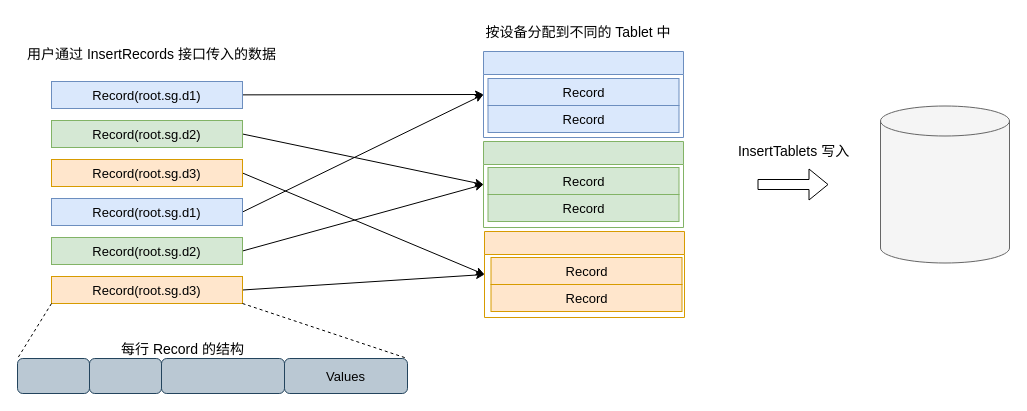
This 1027x411 diagram has some shape labels left out. The box of each missing label's shape, as (x1, y1, x2, y2) in pixels:
DataTypes: (160, 358, 284, 394)
DeviceID: (16, 358, 90, 394)
IoTDB: (880, 105, 1010, 263)
Tablet (root.sg.d1): (482, 50, 684, 138)
Tablet (root.sg.d2): (482, 140, 684, 228)
Tablet (root.sg.d3): (484, 230, 684, 318)
Timestamp: (88, 358, 162, 394)
